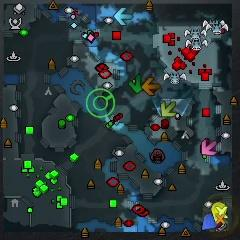p1: (201, 214, 218, 231)
p4: (210, 202, 227, 223)
x1: (202, 140, 217, 156)
x2: (161, 100, 176, 116)
x3: (115, 7, 133, 26)
x4: (130, 74, 145, 92)
x5: (142, 77, 163, 96)
